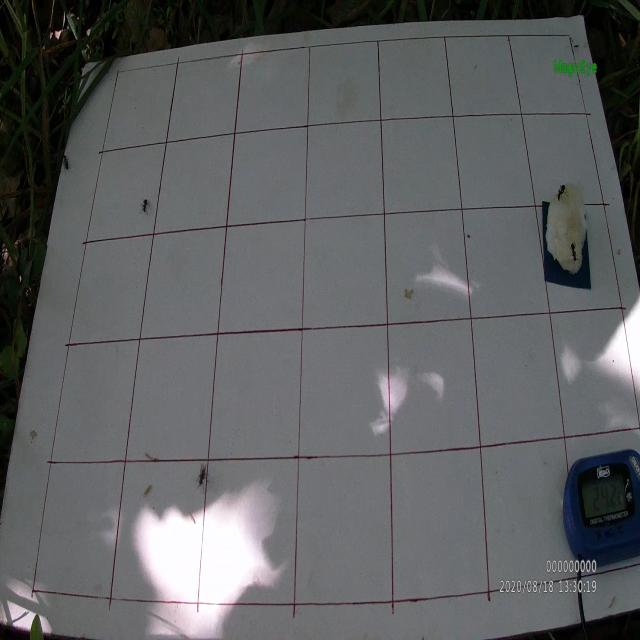Ant: (553, 184, 568, 202), (568, 237, 578, 264), (139, 198, 151, 216), (62, 154, 71, 174)
